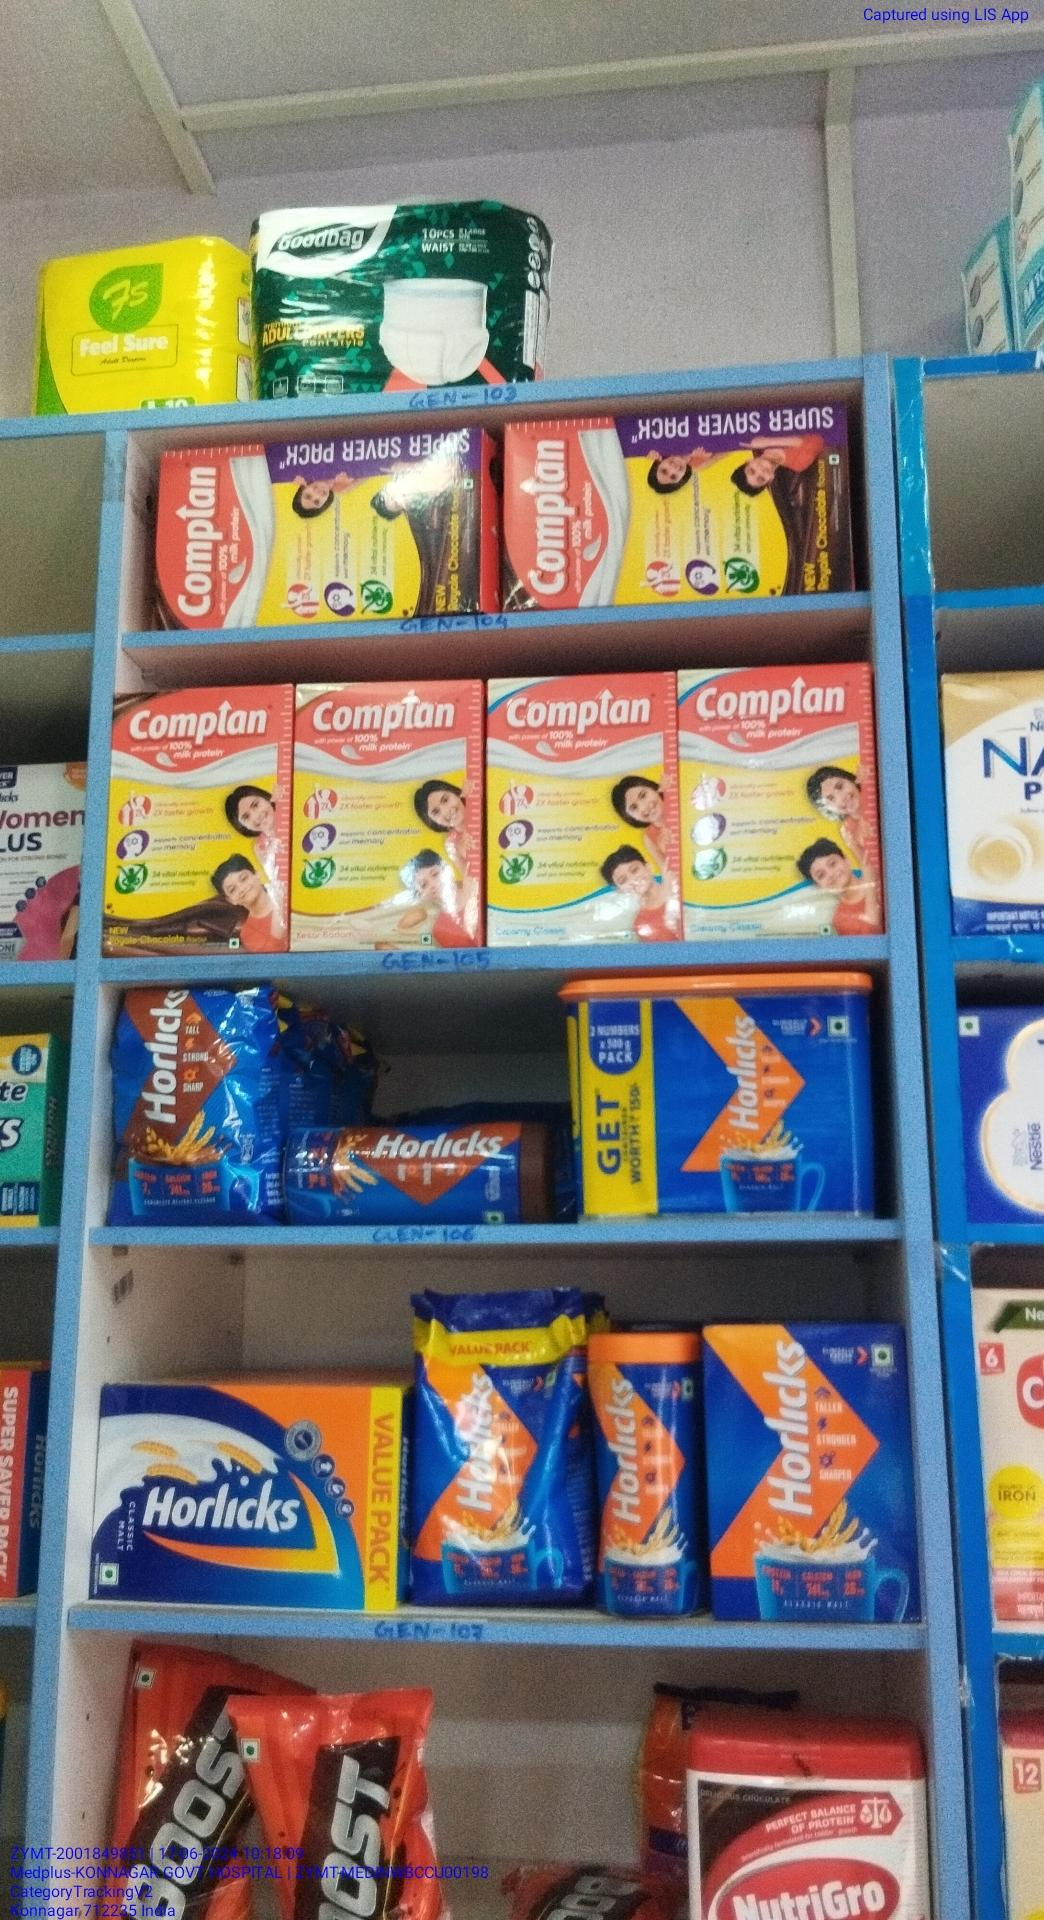COMPLAN_CREAMY_CLASSIC_500_G_PACK: (683, 666, 870, 948), (486, 676, 678, 943)
COMPLAN_KESAR_BADAM_500_GMS_PACK: (291, 684, 480, 950)
HORLICK_CHOCOLATE_750_G_POUCH: (112, 983, 271, 1231)
HORLICK_CLASSIC_MALT_500_G_JAR: (584, 1331, 697, 1619)
HORLICK_CLASSIC_MALT_500_G_PACK: (707, 1325, 915, 1623)
HORLICK_CLASSIC_MALT_750_G_POUCH: (420, 1295, 573, 1597)
